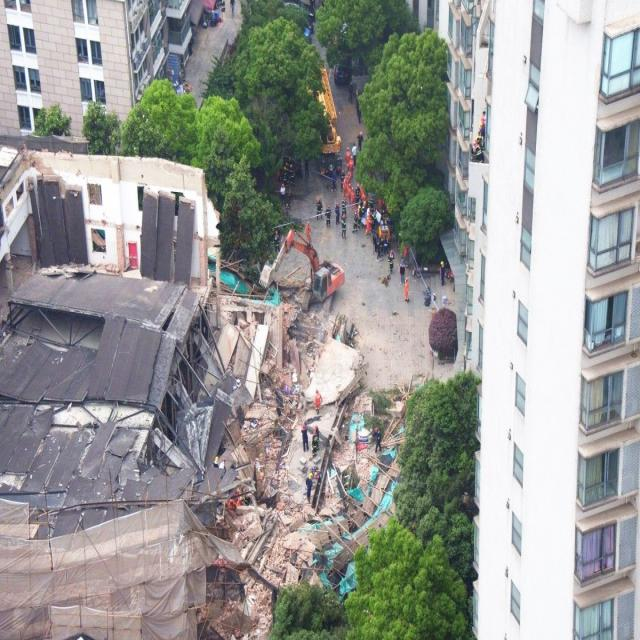collapsed_building: (9, 140, 302, 622)
